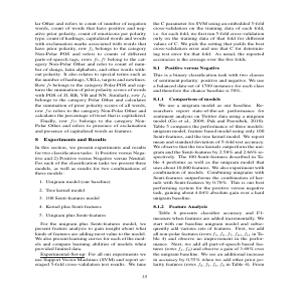text: (151, 19, 266, 269), (31, 21, 146, 269)
